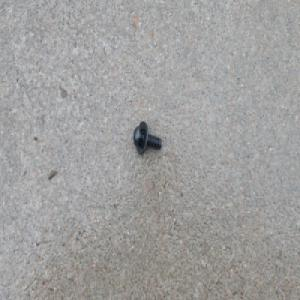BoltWasher: (132, 120, 162, 155)
